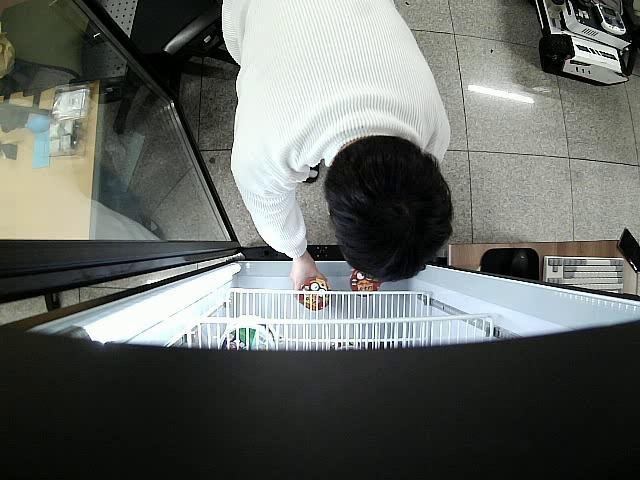06_nuguri_S: (298, 278, 332, 311)
